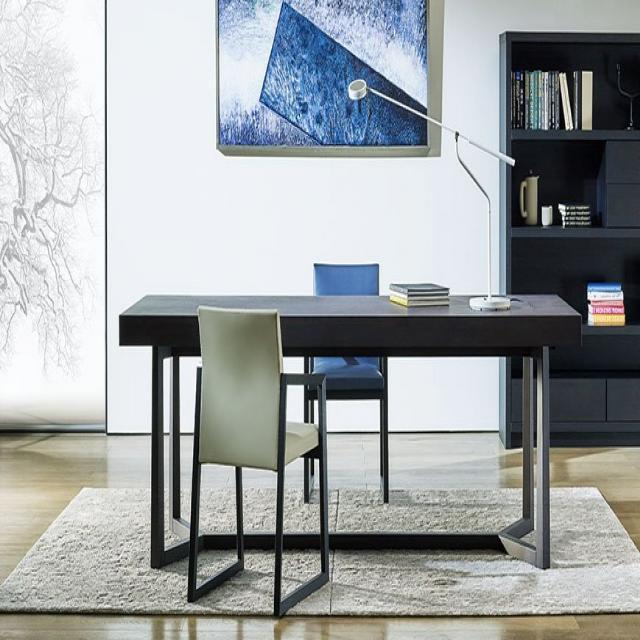table: (106, 254, 590, 436)
